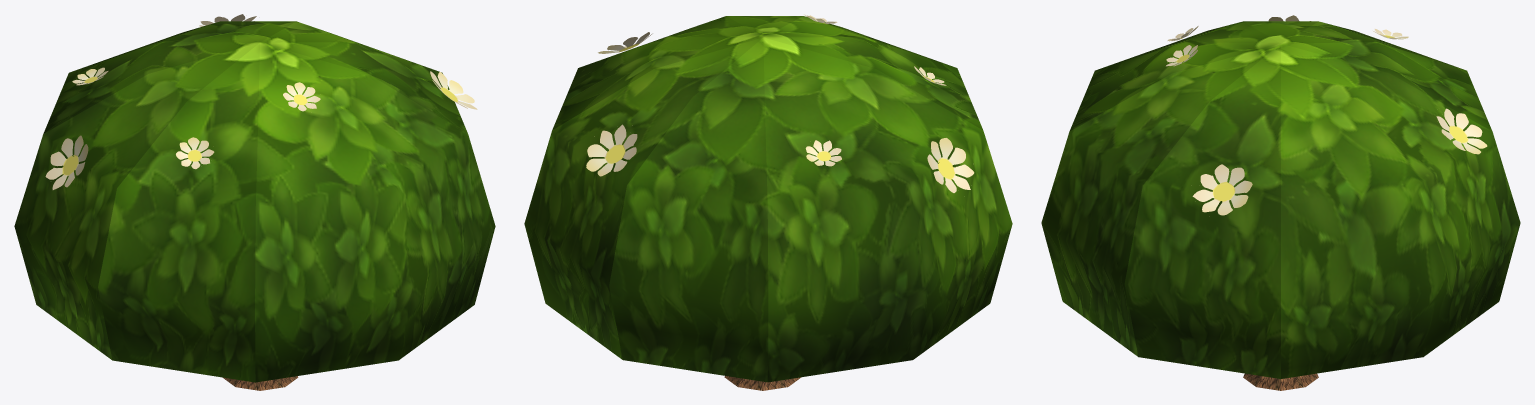
Rendered from fatbush.fbx.
The picture shows the model from 3 angles, left to right: view 1: azimuth 30°, elevation 25°; view 2: azimuth 150°, elevation 25°; view 3: azimuth 270°, elevation 25°; orthographic projection.
Parts seen in each view (by area): view 1: pCylinder9; view 2: pCylinder9; view 3: pCylinder9.
Part boxes in pixels (left/top/right/bottom): pCylinder9: left=14, top=14, right=495, bottom=390; pCylinder9: left=524, top=14, right=1012, bottom=390; pCylinder9: left=1041, top=15, right=1520, bottom=390.
Bounding box in the file's own units: 17.77 × 13.65 × 17.93.
1 material, 1 textured.
